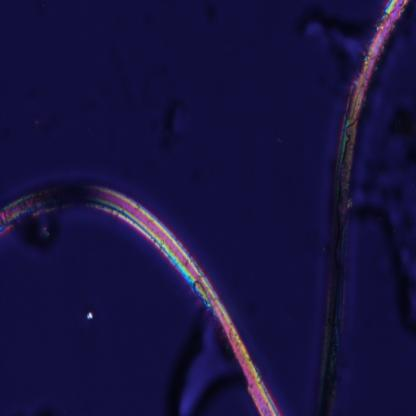Microfibre: (0, 174, 279, 415), (322, 0, 416, 410)
